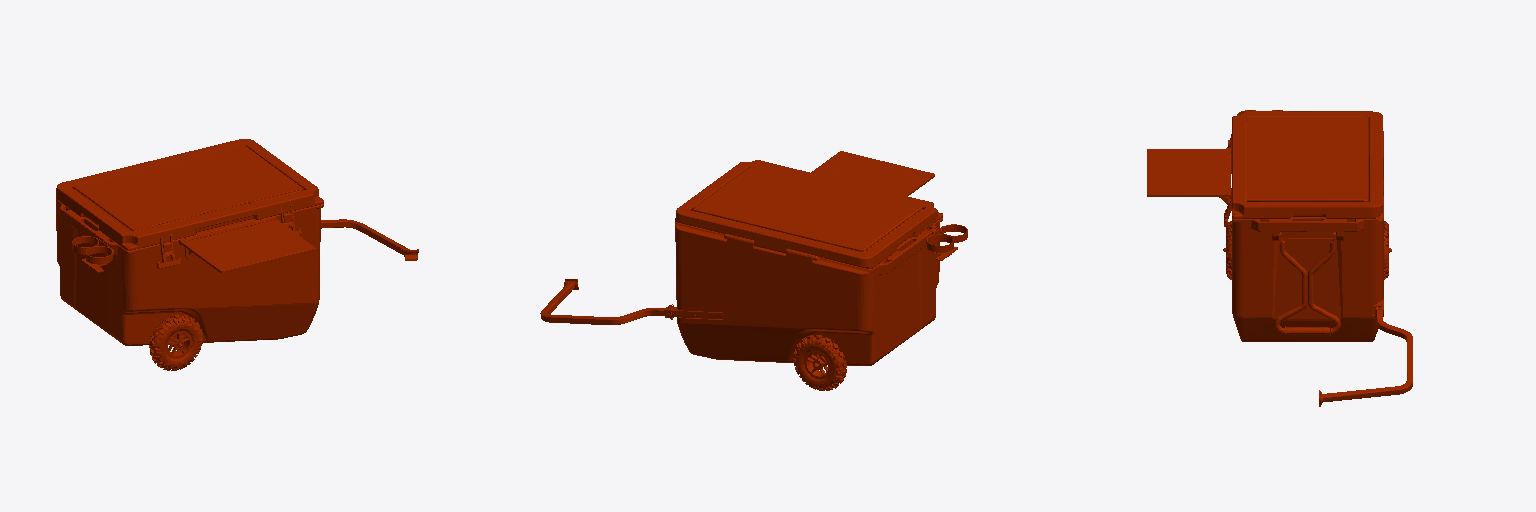
The model's file is rovr-cooler-decimated01.obj.
3 renders of one model, left to right at view 1: azimuth 30°, elevation 25°; view 2: azimuth 150°, elevation 25°; view 3: azimuth 270°, elevation 25°, orthographic.
Parts seen in each view (by area): view 1: mmGroup0; view 2: mmGroup0; view 3: mmGroup0.
Part boxes in pixels (bbox=[...]): mmGroup0: bbox=[56, 139, 418, 370]; mmGroup0: bbox=[540, 151, 967, 390]; mmGroup0: bbox=[1147, 110, 1412, 406].
Bounding box in the file's own units: 9.27 × 3.49 × 5.85.